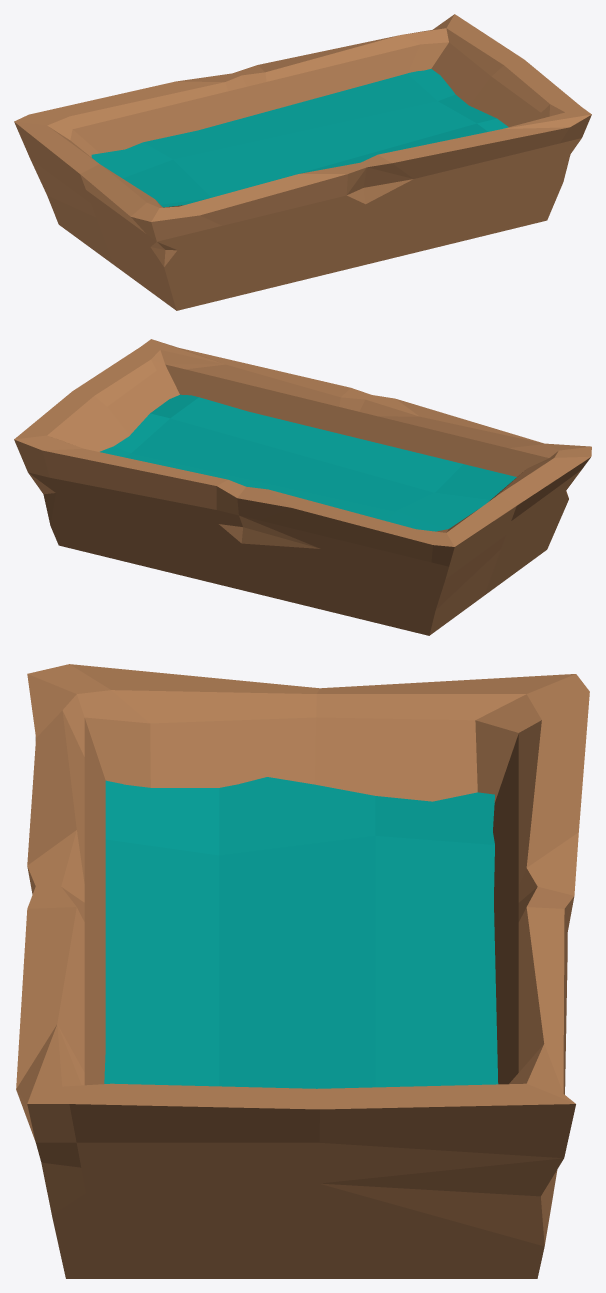
The model's file is Drinker.fbx.
The picture shows the model from 3 angles, top to bottom: view 1: azimuth 30°, elevation 25°; view 2: azimuth 150°, elevation 25°; view 3: azimuth 270°, elevation 25°; orthographic projection. The views are drawn at different scales.
Parts seen in each view (by area): view 1: Drinker; view 2: Drinker; view 3: Drinker.
Boxes of the visible parts, left/top/right/bottom form: Drinker: left=14, top=14, right=591, bottom=310; Drinker: left=14, top=339, right=591, bottom=635; Drinker: left=16, top=664, right=589, bottom=1278.
Size of the model in its own units: 188 by 103 by 41.25.
